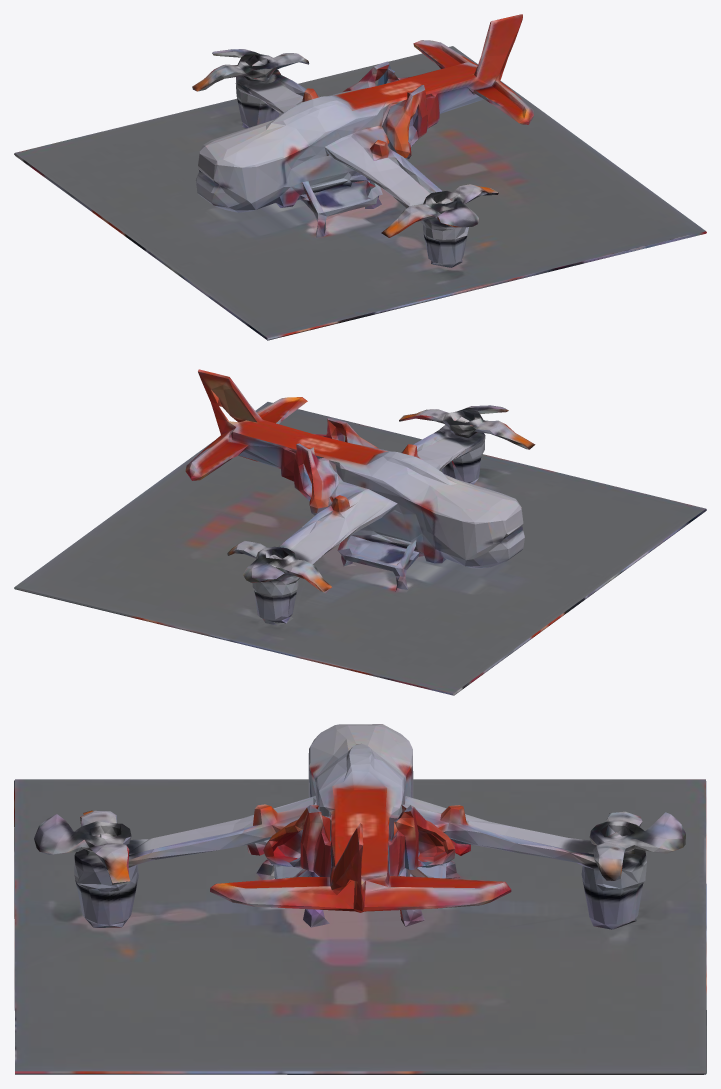
The model's file is supply_drone.glb.
3 views of the same model, one above another, from view 1: azimuth 30°, elevation 25°; view 2: azimuth 150°, elevation 25°; view 3: azimuth 270°, elevation 25° (orthographic). The views are drawn at different scales.
Parts seen in each view (by area): view 1: textured_mesh.obj; view 2: textured_mesh.obj; view 3: textured_mesh.obj.
Boxes of the visible parts, box(x1,y1,x2,y2) form: textured_mesh.obj: box(14, 14, 706, 340); textured_mesh.obj: box(14, 369, 706, 695); textured_mesh.obj: box(14, 724, 706, 1074).
Size of the model in its own units: 2.89 by 0.9 by 2.89.
Materials: 1 (1 with a texture image).
